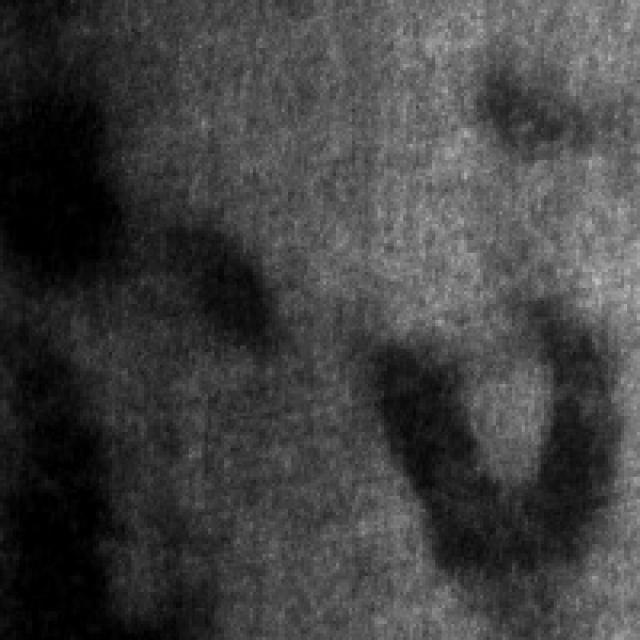patches: (362, 320, 614, 576), (3, 304, 115, 634), (0, 29, 122, 285), (163, 214, 269, 349), (476, 54, 570, 144)
